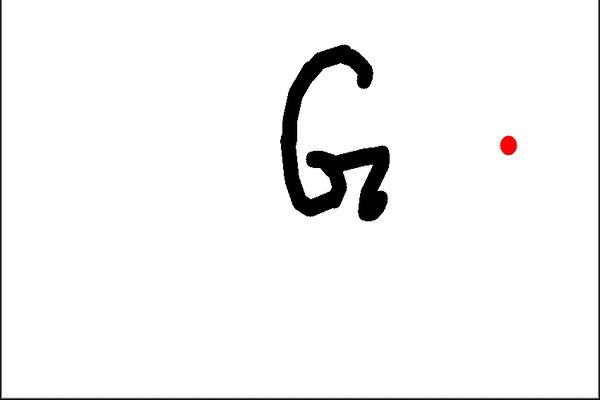G: (273, 40, 397, 226)
